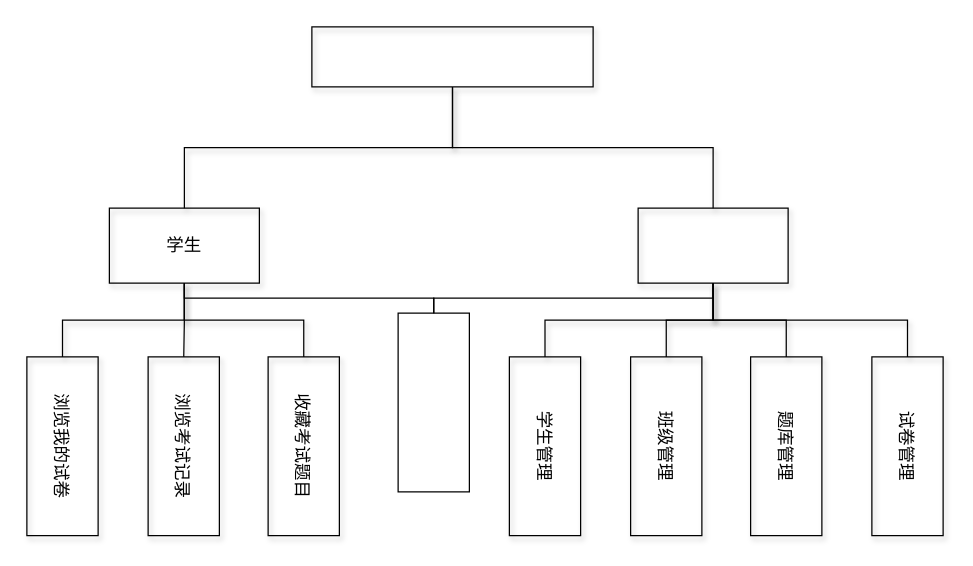
Some shapes in this 973 by 566 pixel diagram are drawn without their labels. The centre of each missing label's shape, as x and y in pixels:
修改个人信息: the point at 433,402
在线考试系统: the point at 453,58
教师: the point at 714,247
